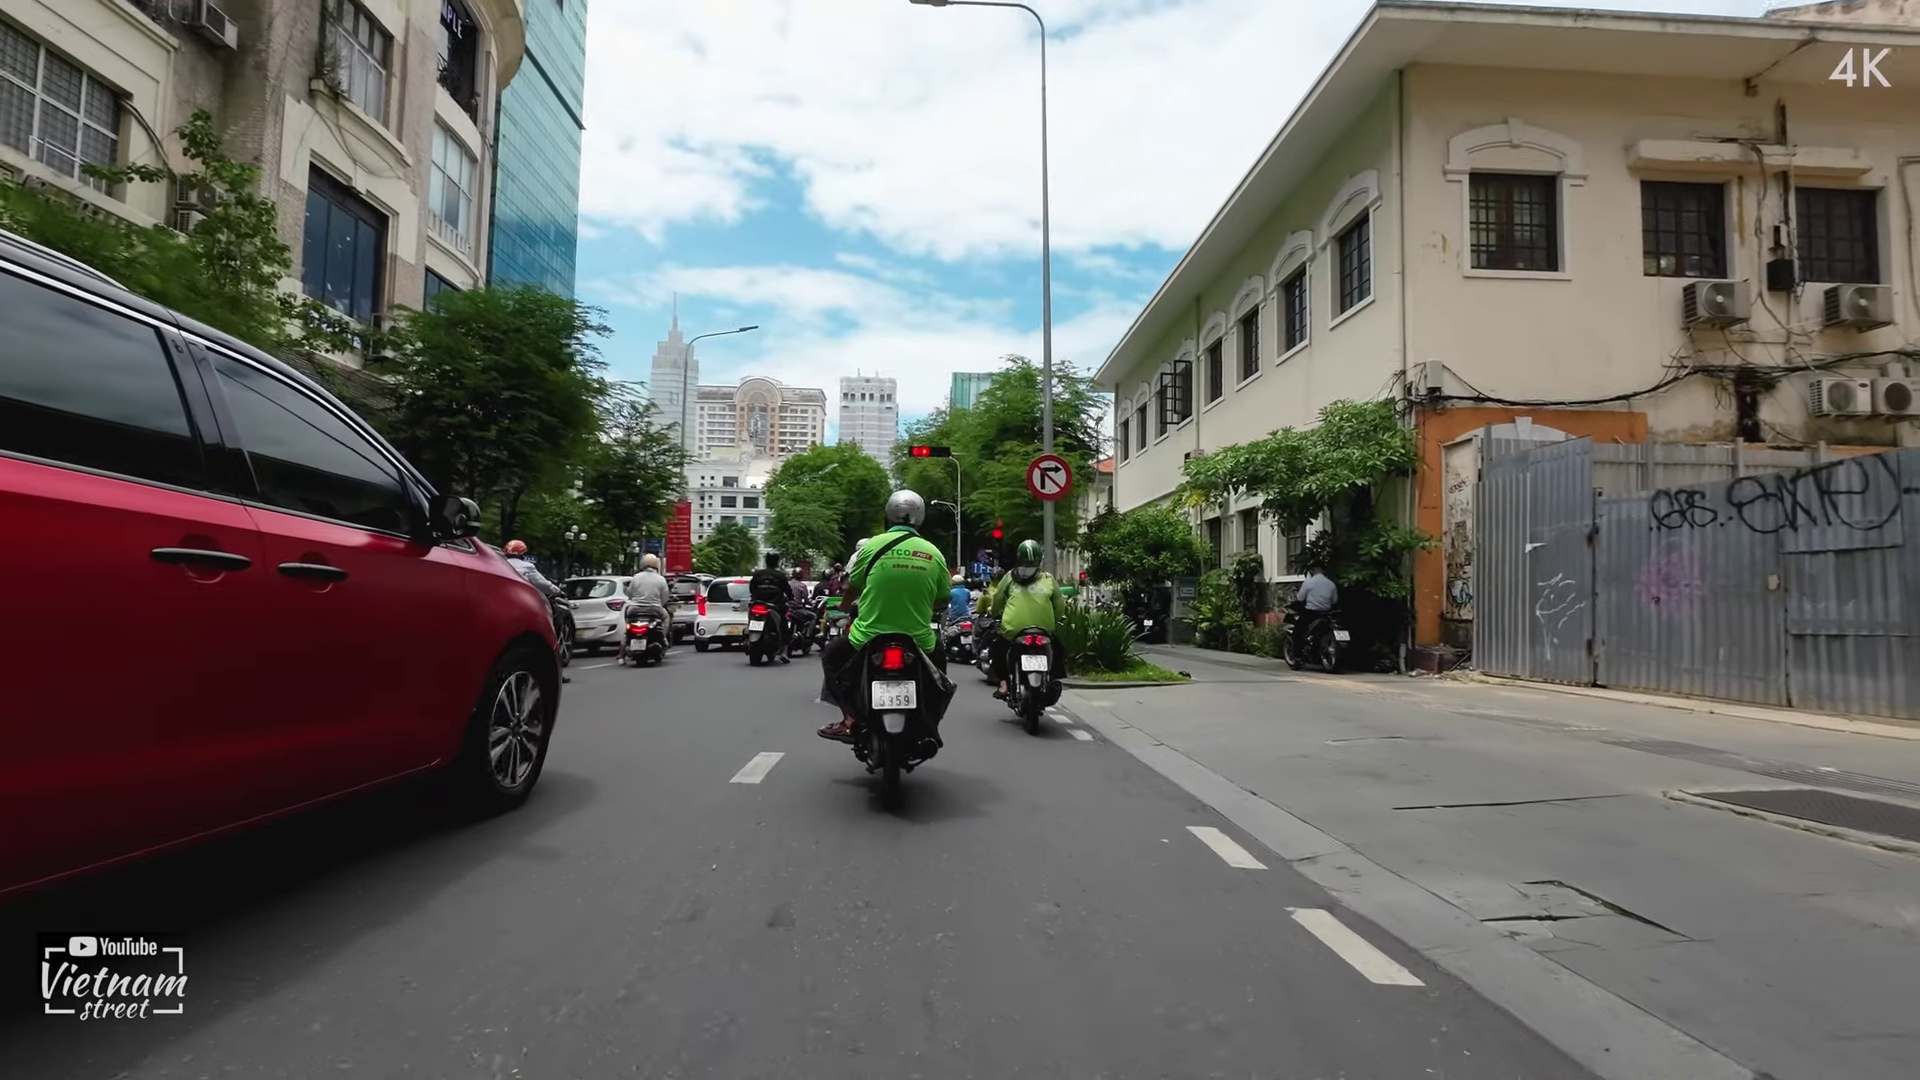cam_re_phai: (1025, 452, 1073, 504)
